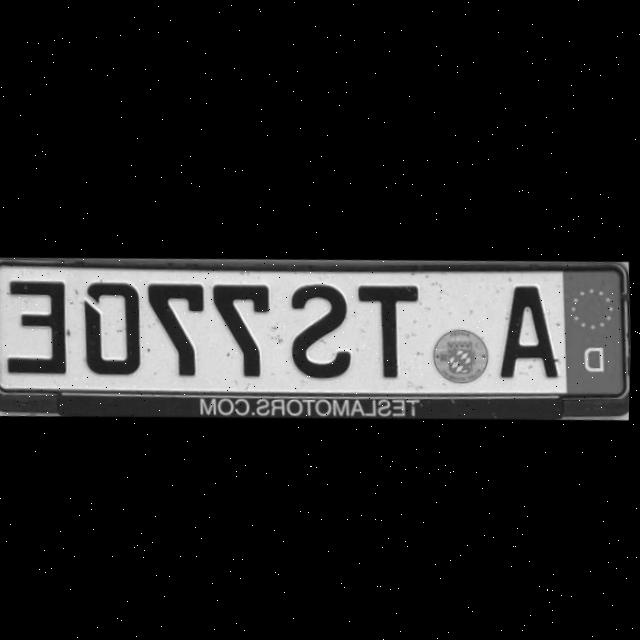license-plates: (0, 264, 628, 397)
